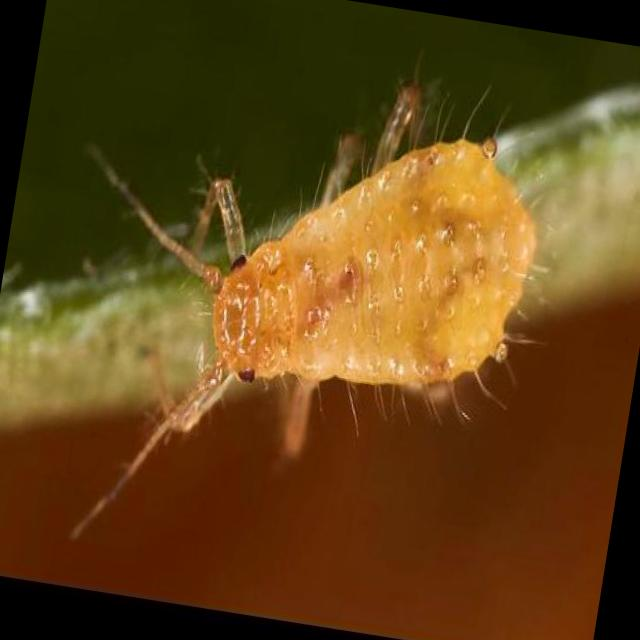aphid: (72, 66, 562, 502)
